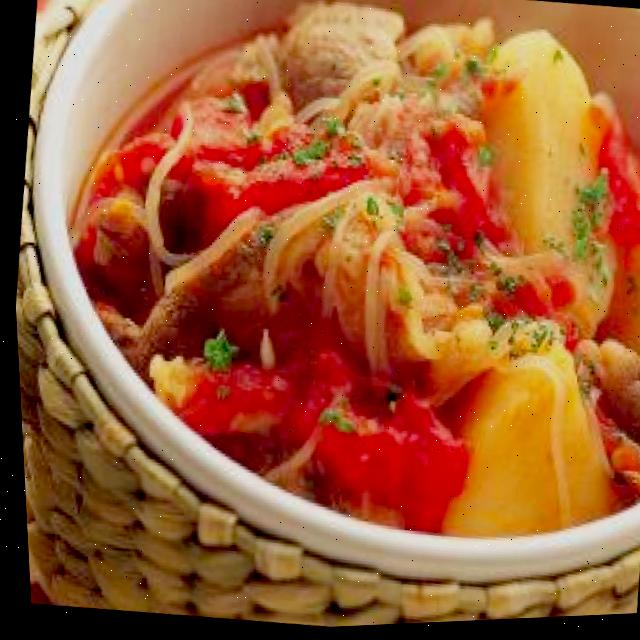牛肉菜式: (14, 0, 640, 598)
